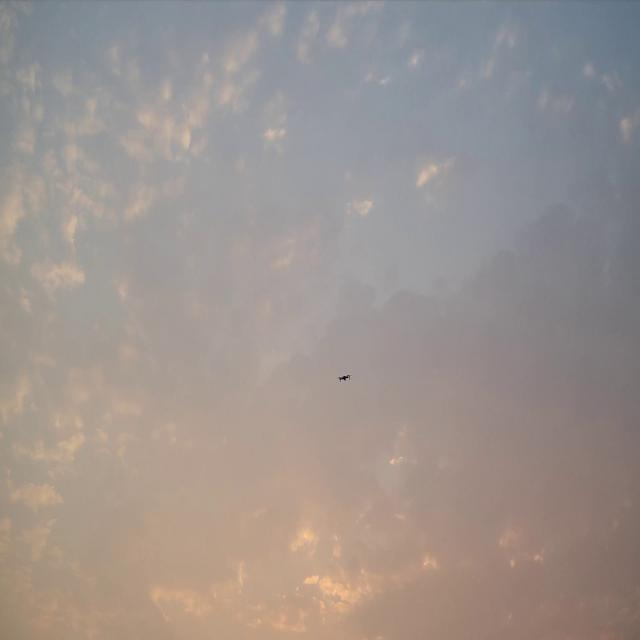drone: (337, 374, 352, 382)
